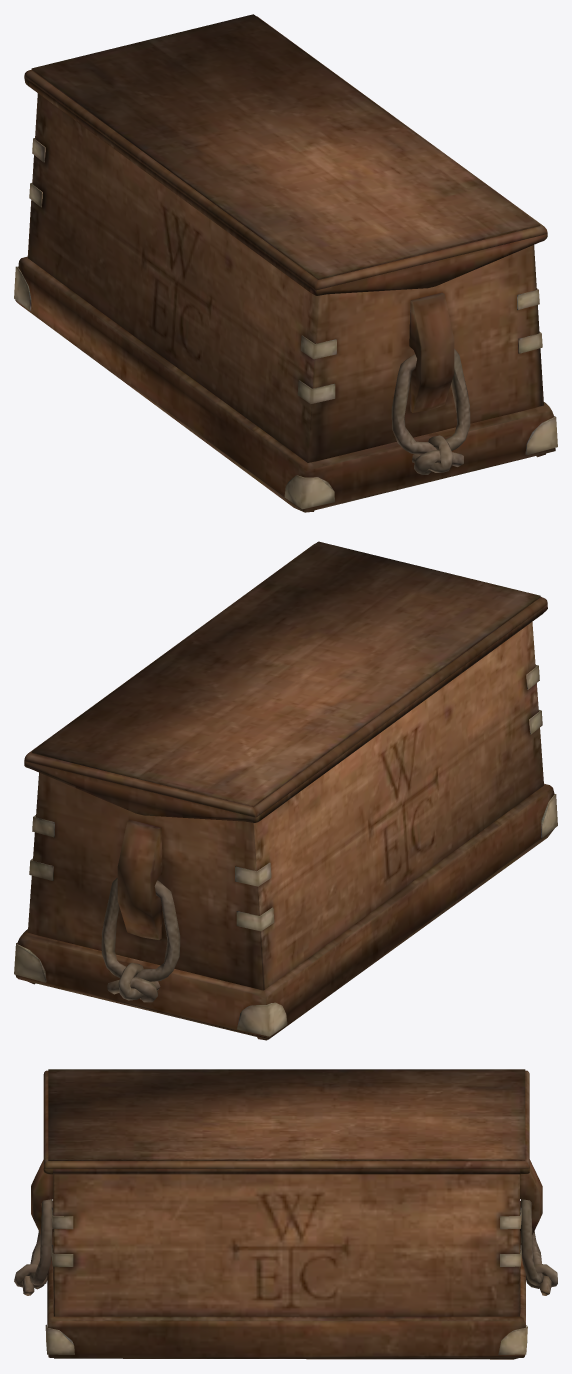
Rendered from wooden_crate_02.glb.
The picture shows the model from 3 angles, top to bottom: view 1: azimuth 30°, elevation 25°; view 2: azimuth 150°, elevation 25°; view 3: azimuth 270°, elevation 25°; orthographic projection. The views are drawn at different scales.
Visible parts, largest first — view 1: wooden_crate_02_crate, wooden_crate_02_lid; view 2: wooden_crate_02_crate, wooden_crate_02_lid; view 3: wooden_crate_02_crate, wooden_crate_02_lid.
Boxes of the visible parts, box(x1,y1,x2,y2) form: wooden_crate_02_crate: box(14, 93, 557, 512); wooden_crate_02_lid: box(24, 14, 547, 295); wooden_crate_02_crate: box(14, 622, 557, 1040); wooden_crate_02_lid: box(24, 541, 547, 822); wooden_crate_02_crate: box(14, 1159, 557, 1359); wooden_crate_02_lid: box(43, 1069, 529, 1174).
Size of the model in its own units: 0.529 by 0.4639 by 1.16.
1 material, 1 textured.
